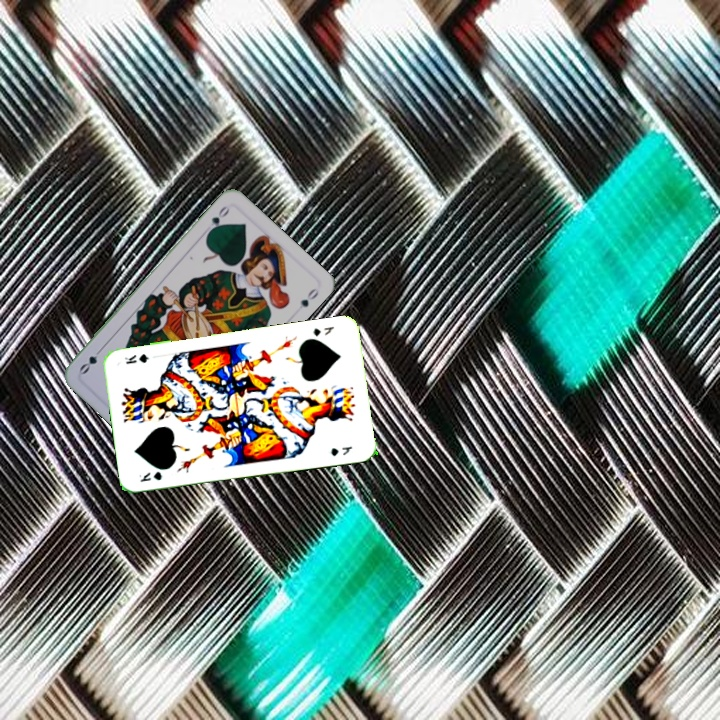GK: (135, 467, 164, 484), (309, 322, 337, 339)
GO: (204, 202, 232, 236)
